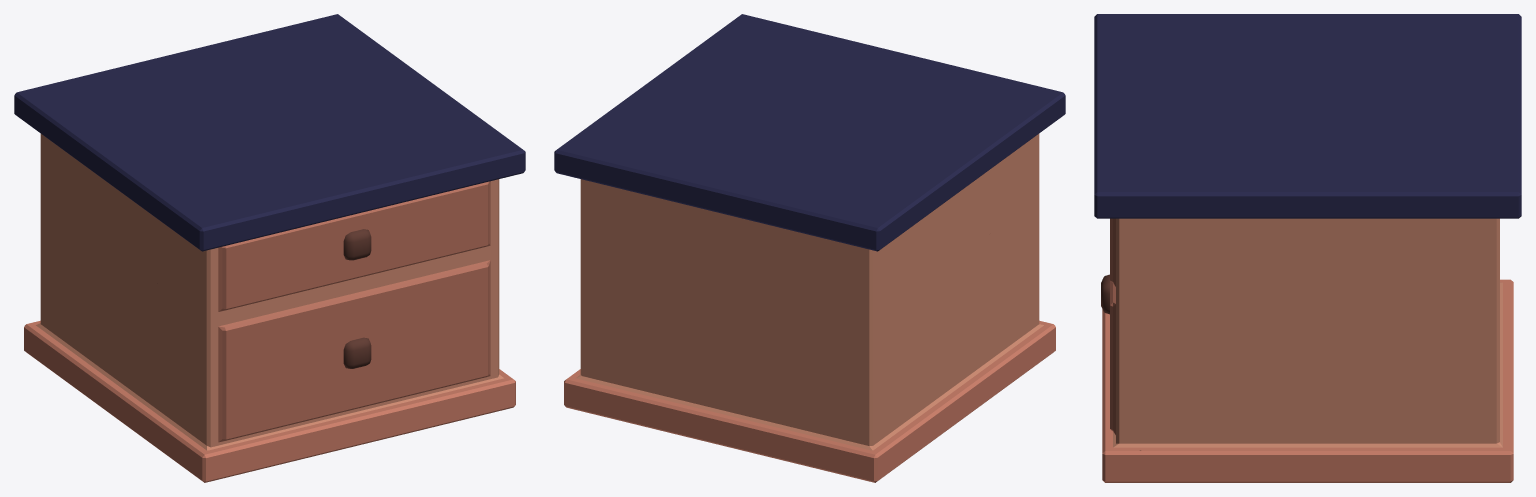
The model's file is furniture.fbx.
3 renders of one model, left to right at view 1: azimuth 30°, elevation 25°; view 2: azimuth 150°, elevation 25°; view 3: azimuth 270°, elevation 25°, orthographic. The views are drawn at different scales.
Visible parts, largest first — view 1: furniture; view 2: furniture; view 3: furniture.
Part boxes in pixels (bbox=[...]): furniture: bbox=[14, 14, 525, 482]; furniture: bbox=[554, 14, 1065, 482]; furniture: bbox=[1094, 14, 1521, 482].
Bounding box in the file's own units: 145 × 110 × 145.
1 material, 1 textured.
